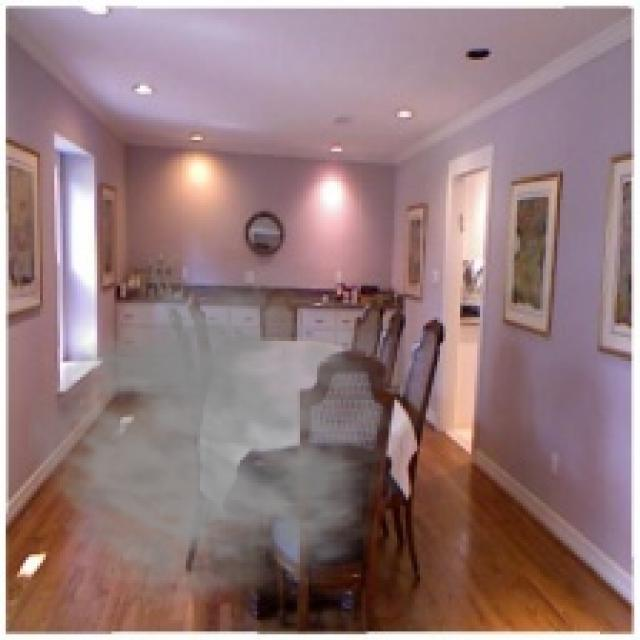smoke: (26, 246, 437, 614)
